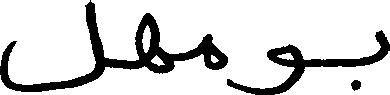X: (0, 0, 103, 94), (136, 8, 173, 78), (268, 39, 302, 94), (204, 29, 226, 74), (374, 25, 389, 67)
